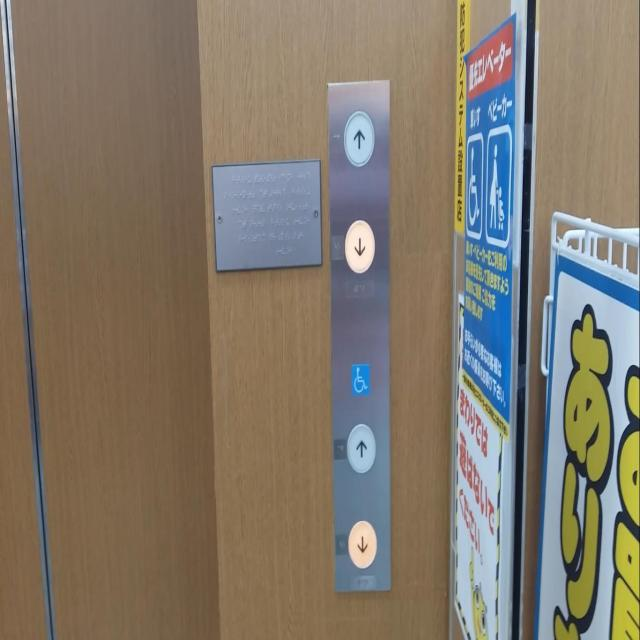CH: (348, 357, 373, 399)
down: (343, 215, 376, 275), (346, 517, 380, 571)
up: (340, 104, 378, 170), (344, 421, 378, 474)
